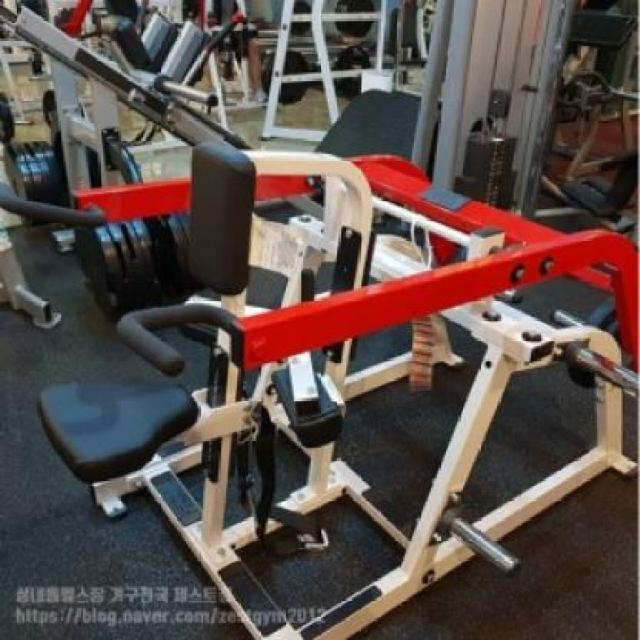seated dip machine: (0, 138, 640, 640)
